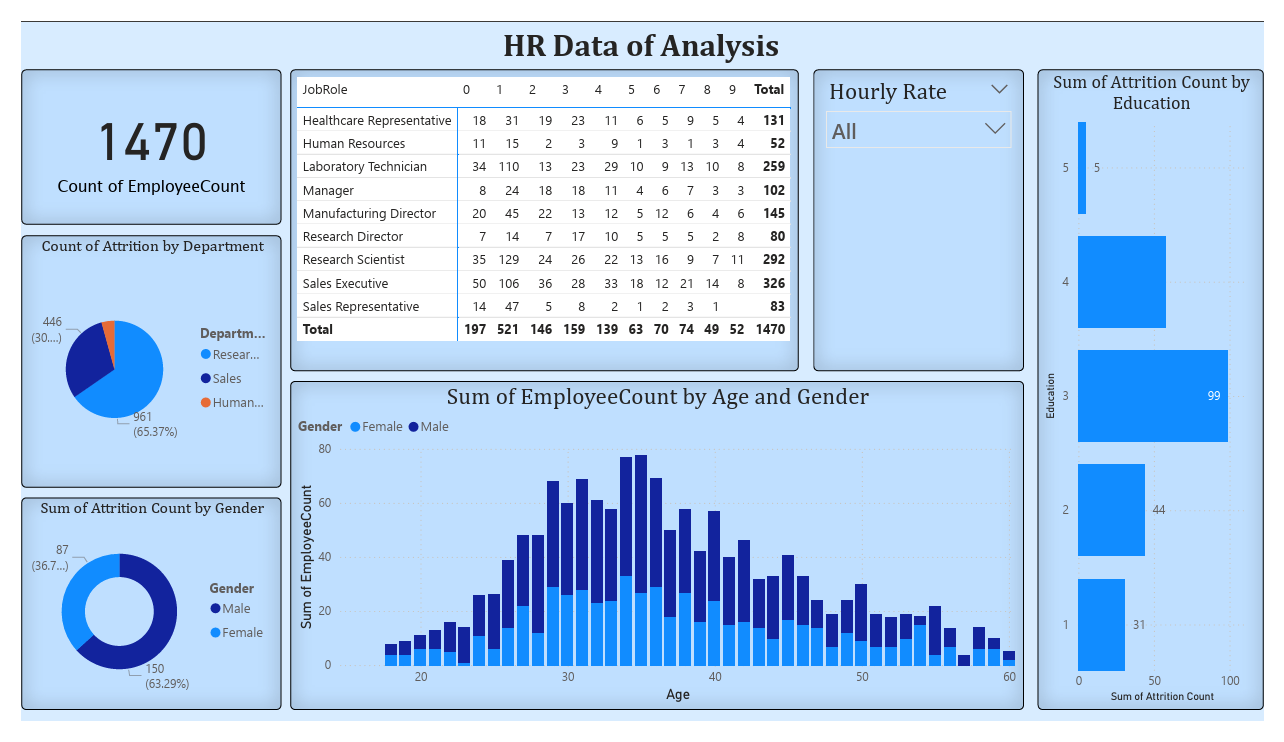

Layout of this report page (visuals, bound fields, positions):
{"tool":"powerbi","page":{"name":"Page 1","canvas":[1280,720],"ordinal":0},"visuals":[{"type":"textbox","box":[487.1,0,303.3,52.1],"z":0},{"type":"card","fields":{"Values":["CountNonNull(HR.EmployeeCount)"]},"box":[0,49.4,267.6,159.2],"z":1000},{"type":"pieChart","fields":{"Category":["HR.Department"],"Y":["CountNonNull(HR.Attrition)"]},"box":[0,219.6,267.6,260.7],"z":2000},{"type":"columnChart","fields":{"Category":["HR.Age"],"Y":["Sum(HR.EmployeeCount)"],"Series":["HR.Gender"]},"box":[277.2,370.5,756.1,338.9],"z":3000},{"type":"pivotTable","fields":{"Rows":["HR.JobRole"],"Columns":["HR.NumCompaniesWorked"],"Values":["Sum(HR.EmployeeCount)"]},"box":[277.2,49.4,524.2,310.1],"z":4000},{"type":"barChart","fields":{"Category":["HR.Education"],"Y":["Sum(HR.Attrition Count)"]},"box":[1047,49.4,233.3,660],"z":5000},{"type":"donutChart","fields":{"Category":["HR.Gender"],"Y":["Sum(HR.Attrition Count)"]},"box":[0,489.9,267.6,219.6],"z":6000},{"type":"slicer","fields":{"Values":["HR.HourlyRate"]},"box":[816.5,49.4,216.8,310.1],"z":7000}]}

Visuals, with their boxes in screenshot pixels (x1, y1, x2, y2), scaled from the page's 1280x720 canvas onto the 1284x742 screenshot:
textbox: Rect(489, 0, 793, 54)
card - CountNonNull(HR.EmployeeCount): Rect(0, 51, 268, 215)
pieChart - HR.Department x CountNonNull(HR.Attrition): Rect(0, 226, 268, 495)
columnChart - HR.Age x Sum(HR.EmployeeCount): Rect(278, 382, 1037, 731)
pivotTable - HR.JobRole x HR.NumCompaniesWorked: Rect(278, 51, 804, 370)
barChart - HR.Education x Sum(HR.Attrition Count): Rect(1050, 51, 1283, 731)
donutChart - HR.Gender x Sum(HR.Attrition Count): Rect(0, 505, 268, 731)
slicer - HR.HourlyRate: Rect(819, 51, 1037, 370)
